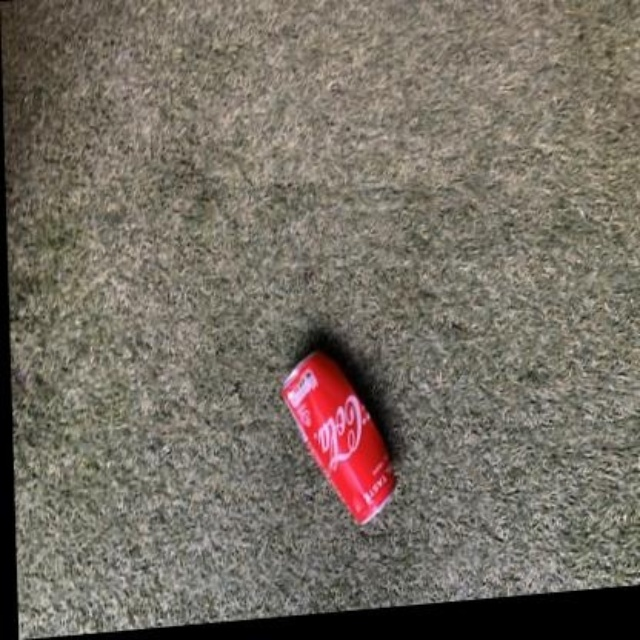trash: (282, 351, 392, 522)
